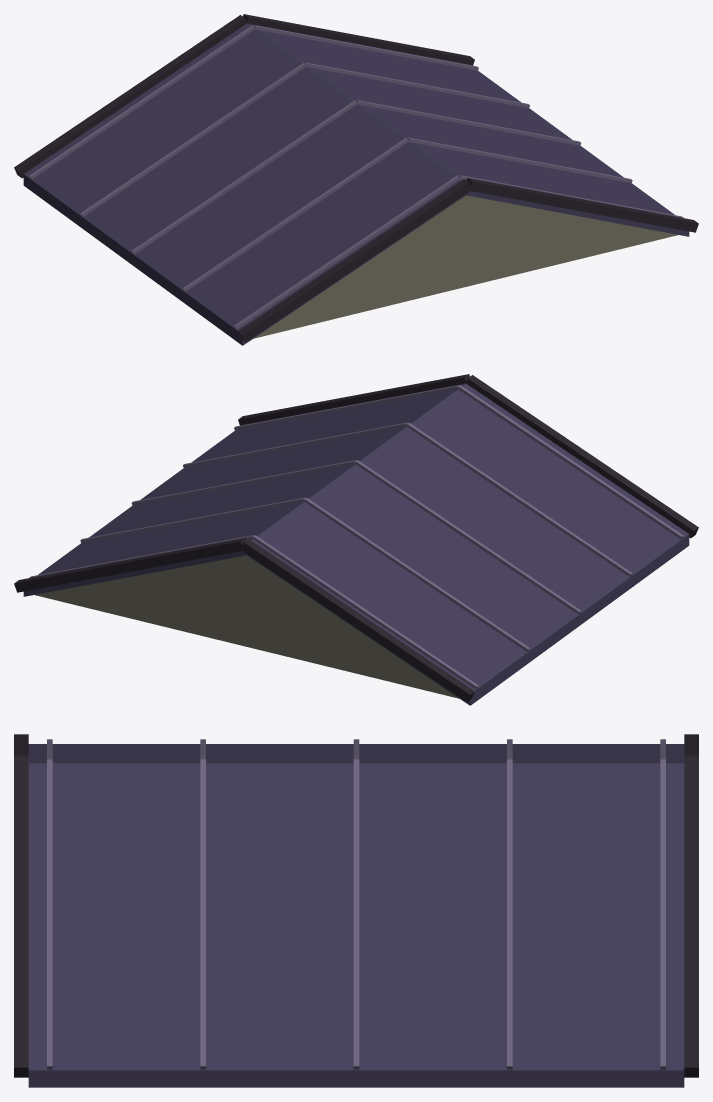
Rendered from HauntedWoods_ManorRoof_Standard.glb.
The picture shows the model from 3 angles, top to bottom: view 1: azimuth 30°, elevation 25°; view 2: azimuth 150°, elevation 25°; view 3: azimuth 270°, elevation 25°; orthographic projection. The views are drawn at different scales.
Visible parts, largest first — view 1: HauntedWoods_ManorRoof_Standard; view 2: HauntedWoods_ManorRoof_Standard; view 3: HauntedWoods_ManorRoof_Standard.
Boxes of the visible parts, left/top/right/bottom form: HauntedWoods_ManorRoof_Standard: left=14, top=14, right=698, bottom=345; HauntedWoods_ManorRoof_Standard: left=14, top=374, right=698, bottom=705; HauntedWoods_ManorRoof_Standard: left=14, top=734, right=698, bottom=1087.
Size of the model in its own units: 7.45 by 1.76 by 6.48.
